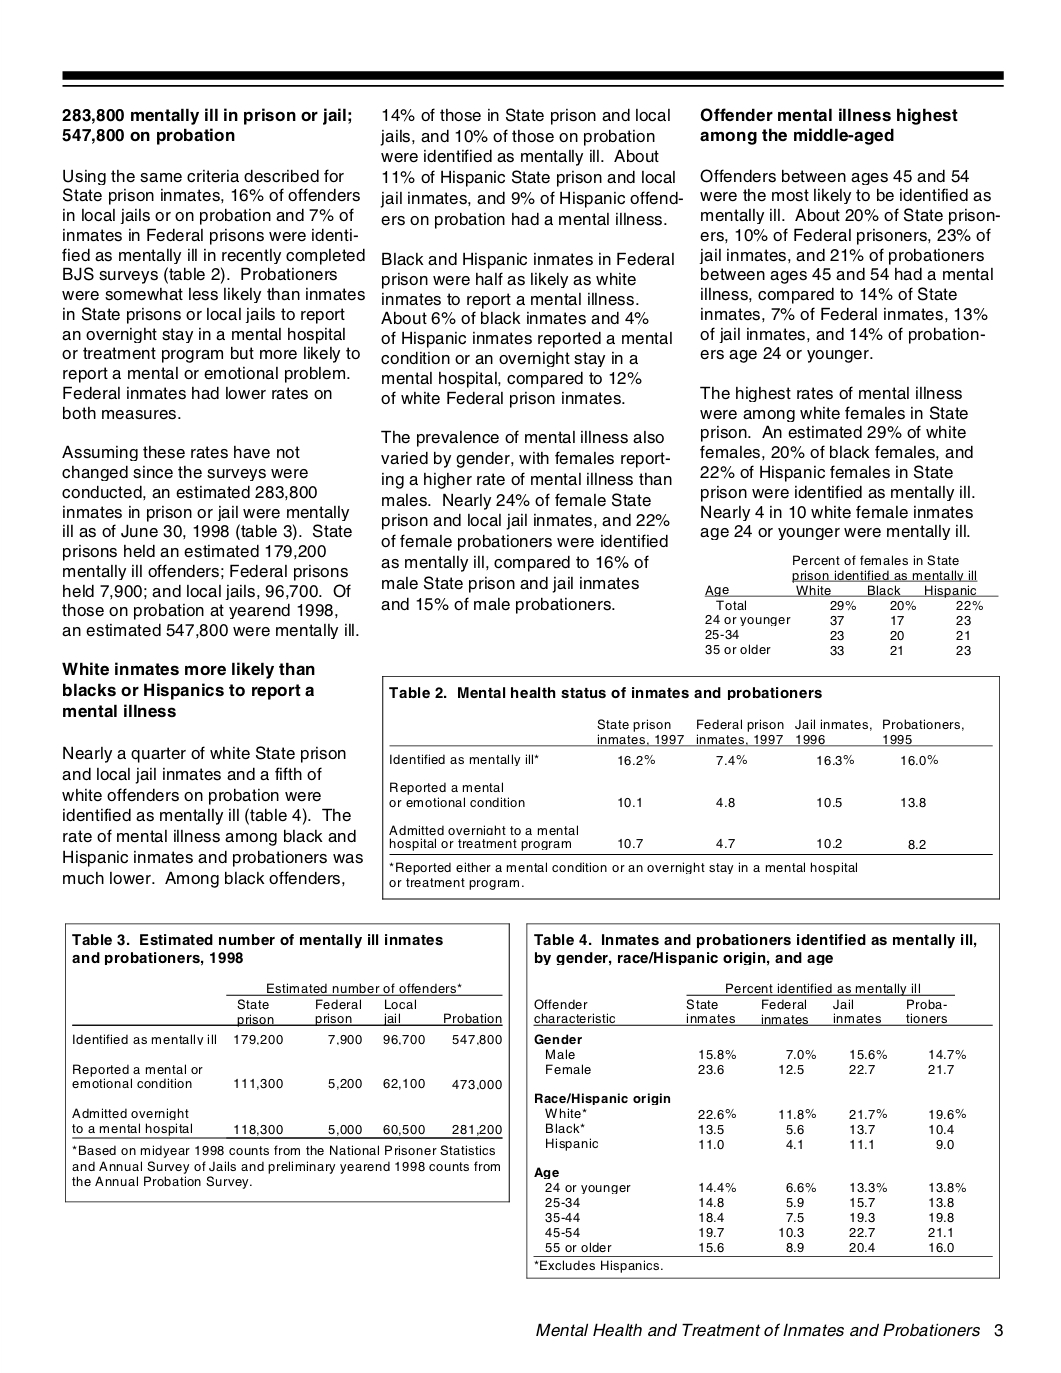Table: (526, 922, 999, 1279), (382, 676, 999, 899), (65, 922, 509, 1202), (704, 555, 997, 655)
